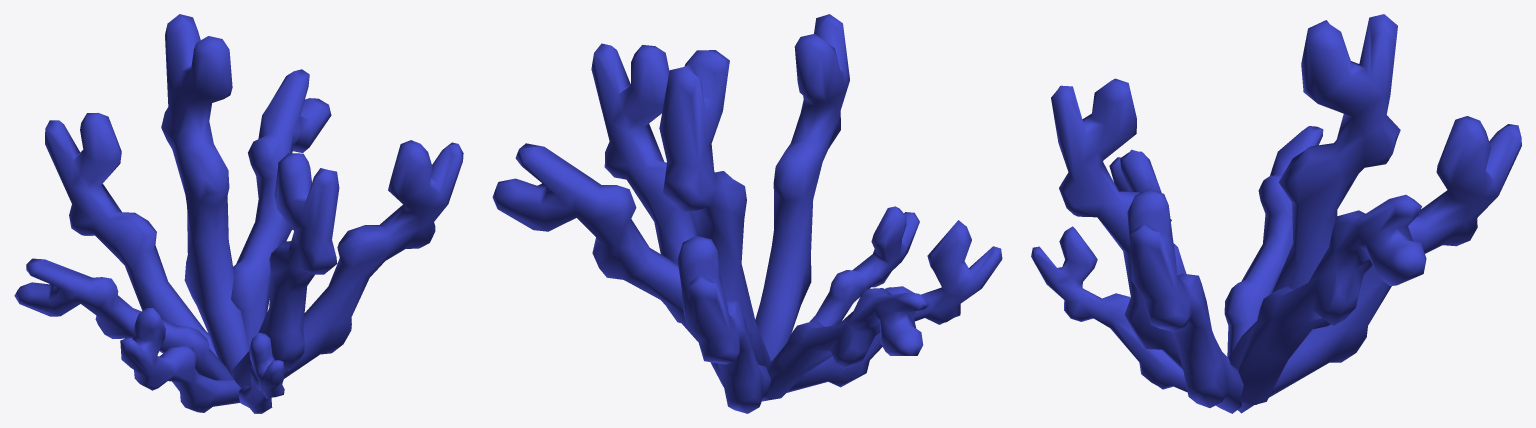
File: blue_coral.glb
The picture shows the model from 3 angles, left to right: view 1: azimuth 30°, elevation 25°; view 2: azimuth 150°, elevation 25°; view 3: azimuth 270°, elevation 25°; orthographic projection. The views are drawn at different scales.
Visible parts, largest first — view 1: node_id9; view 2: node_id9; view 3: node_id9.
Part boxes in pixels (x1=…): node_id9: x1=14, y1=14, x2=463, y2=413; node_id9: x1=492, y1=14, x2=1002, y2=413; node_id9: x1=1031, y1=14, x2=1521, y2=413.
Bounding box in the file's own units: 0.0344 × 0.0303 × 0.0341.
1 material, 1 textured.
